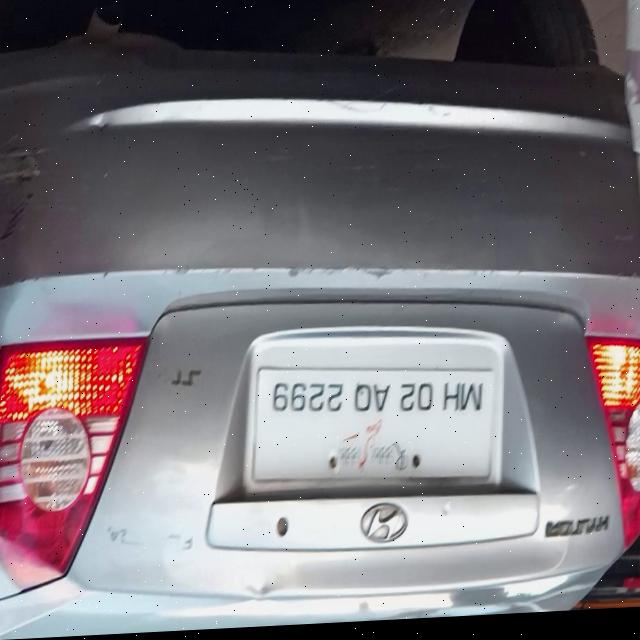plate: (250, 349, 498, 503)
